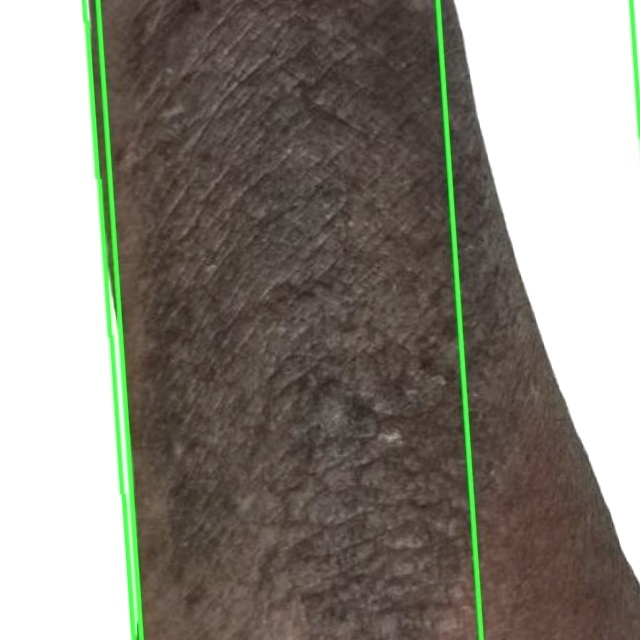Eczema: (85, 0, 639, 639)
